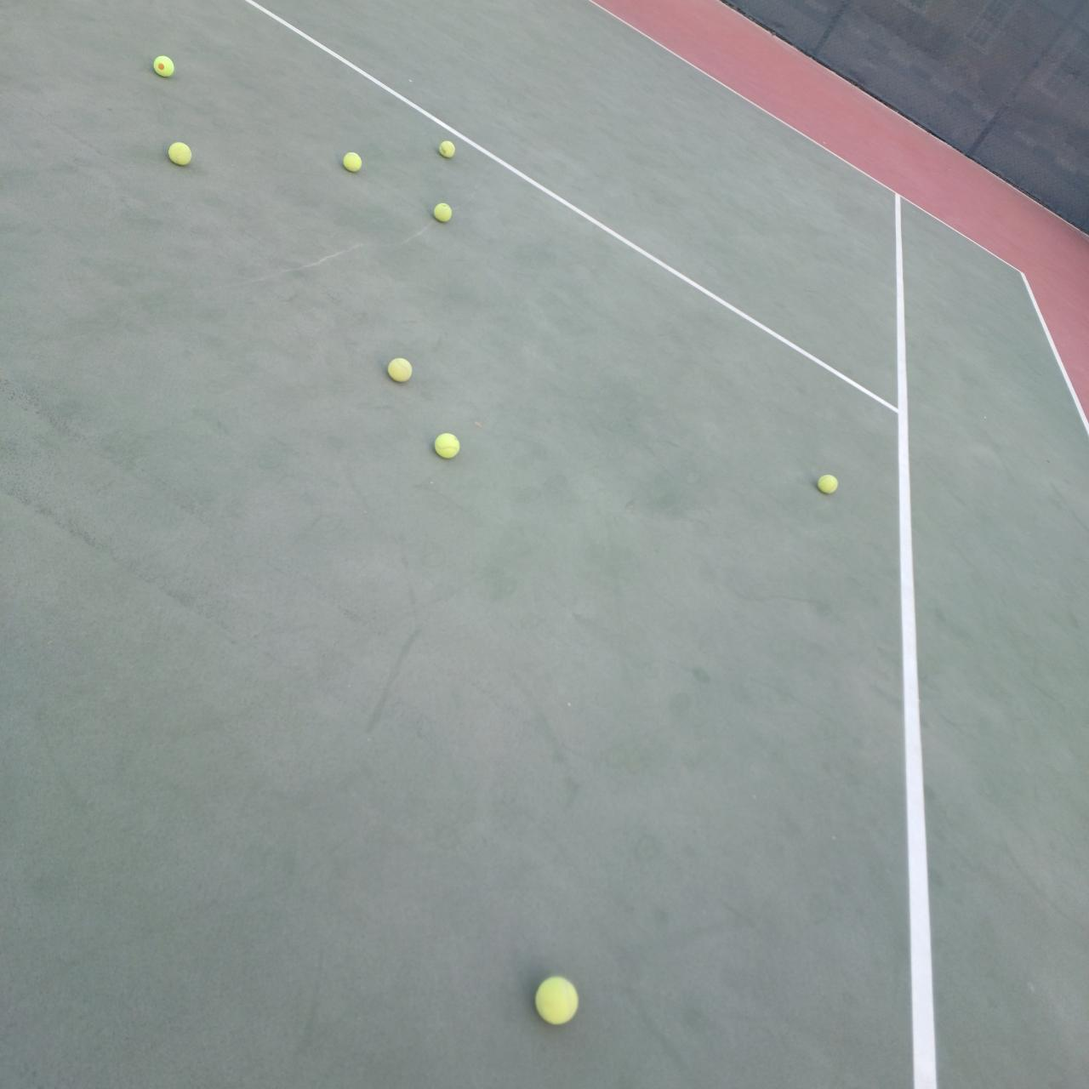tennis-ball: (533, 973, 579, 1025), (431, 430, 460, 459), (385, 355, 412, 382), (166, 139, 192, 166), (151, 54, 174, 77), (340, 150, 362, 173), (430, 200, 452, 223), (815, 472, 838, 494), (436, 138, 455, 158)
